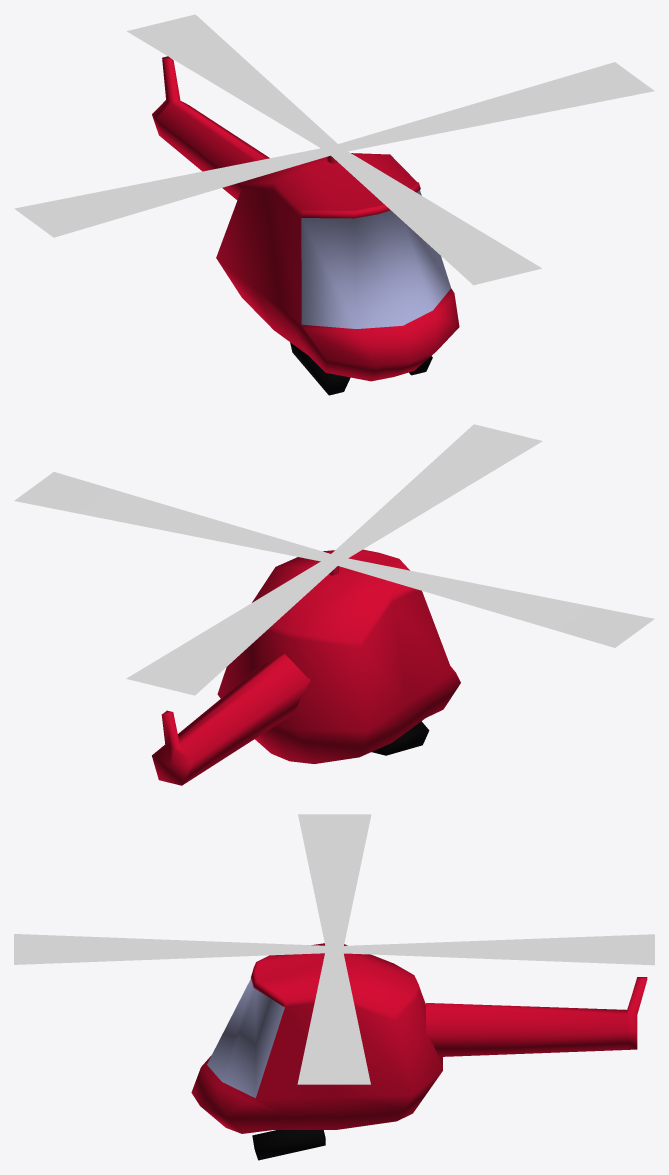
Rendered from heli.fbx.
The picture shows the model from 3 angles, top to bottom: view 1: azimuth 30°, elevation 25°; view 2: azimuth 150°, elevation 25°; view 3: azimuth 270°, elevation 25°; orthographic projection. The views are drawn at different scales.
Visible parts, largest first — view 1: heli, prop; view 2: heli, prop; view 3: heli, prop.
Boxes of the visible parts, x1,y1,x2,y2 form: heli: (152,56,459,395); prop: (14,14,654,285); heli: (152,549,460,785); prop: (14,424,654,695); heli: (191,943,647,1160); prop: (14,814,654,1084).
Size of the model in its own units: 8.22 by 2.67 by 8.23.
